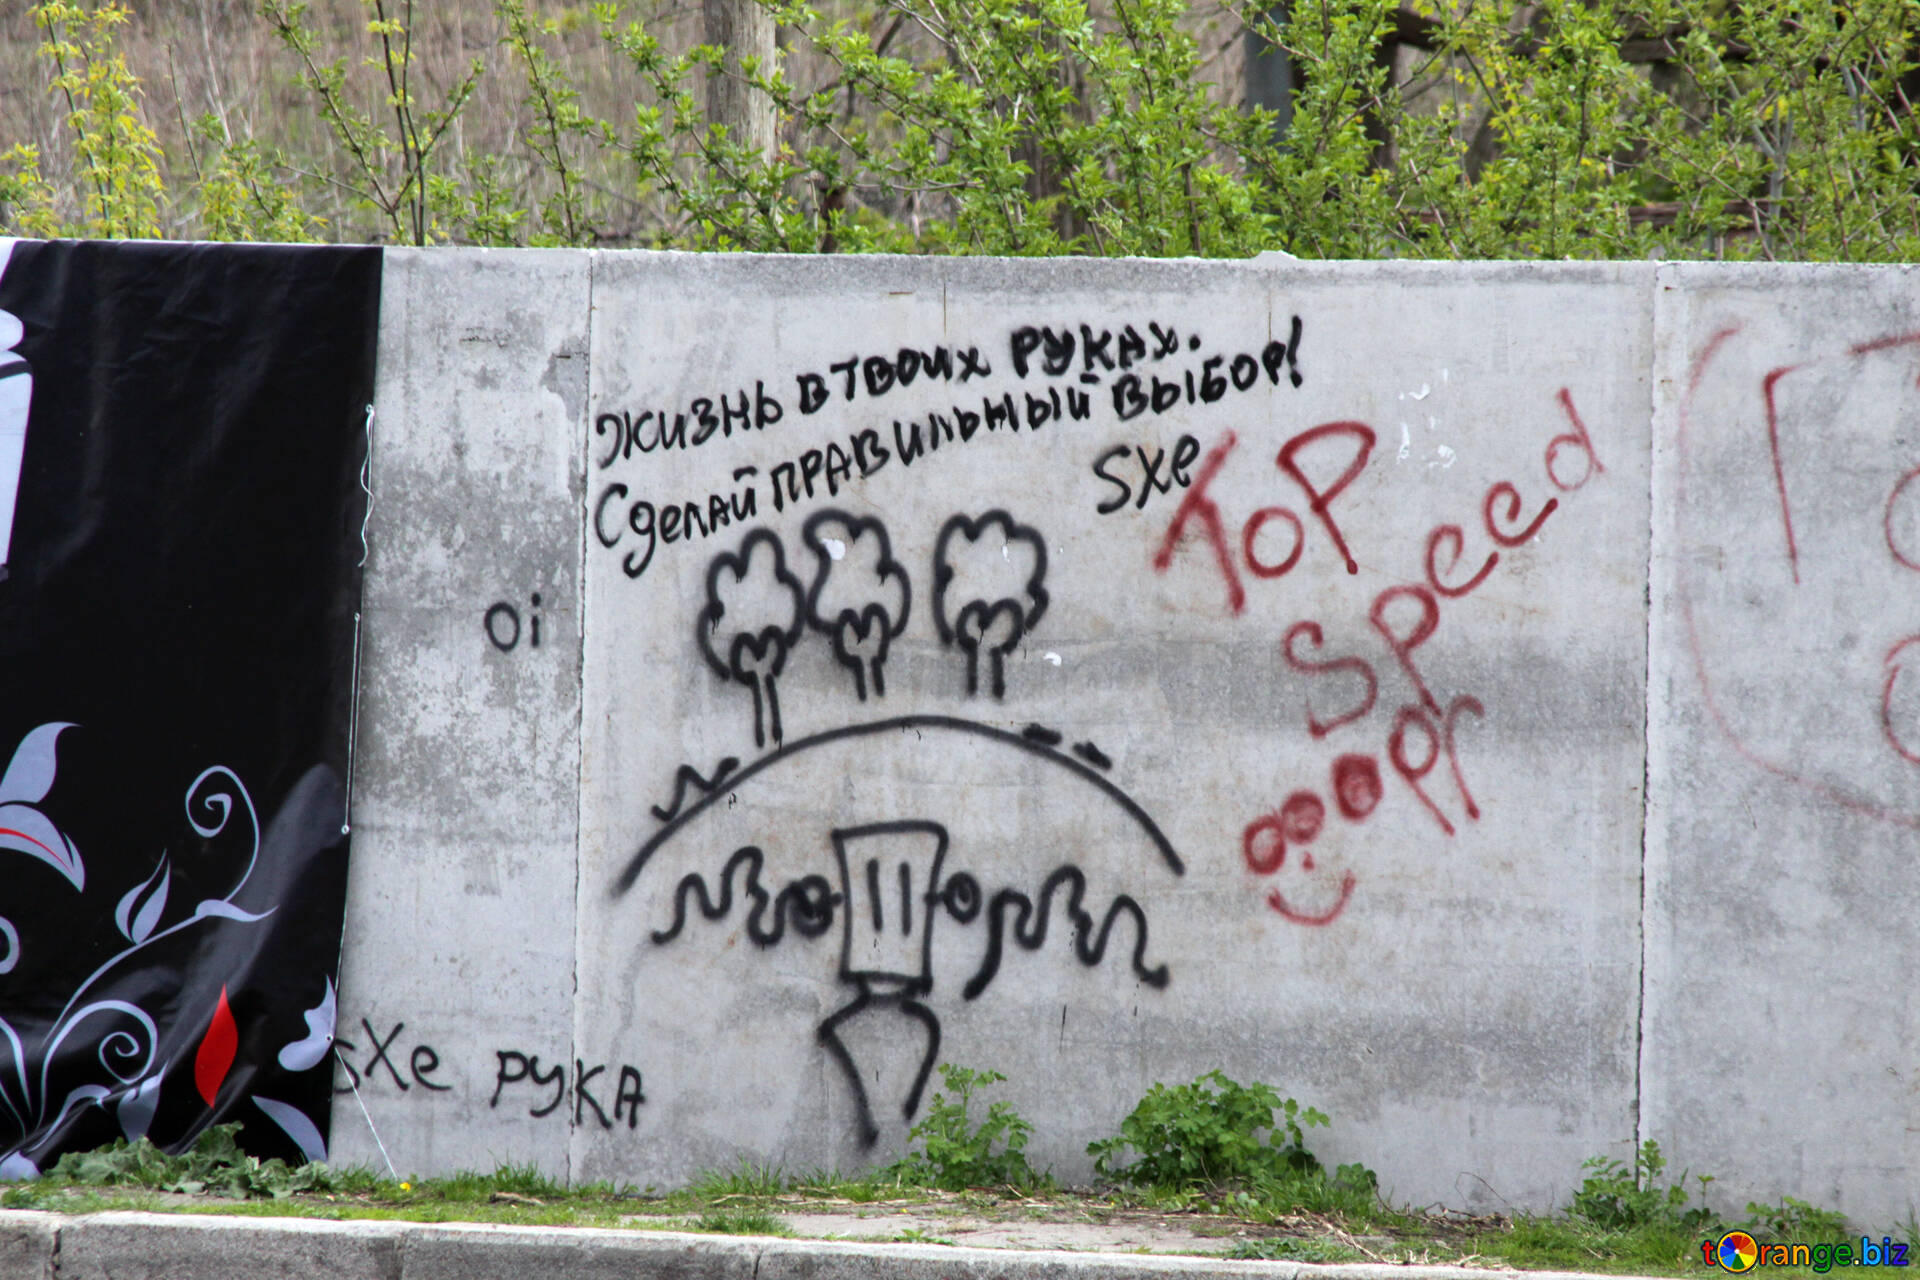graphite: (620, 514, 1221, 1154), (1, 251, 371, 1200), (1174, 379, 1659, 947), (589, 321, 1323, 551), (1750, 319, 1920, 791), (334, 1001, 664, 1147), (486, 590, 553, 657)
